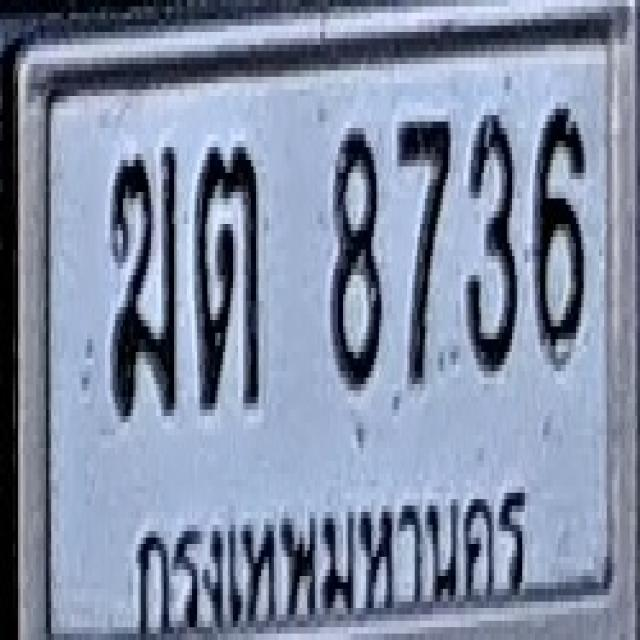3: (466, 109, 517, 371)
6: (534, 106, 585, 362)
7: (396, 115, 451, 384)
8: (331, 125, 382, 387)
A06: (110, 144, 177, 413)
A21: (196, 140, 260, 410)
BKK: (125, 485, 542, 640)
